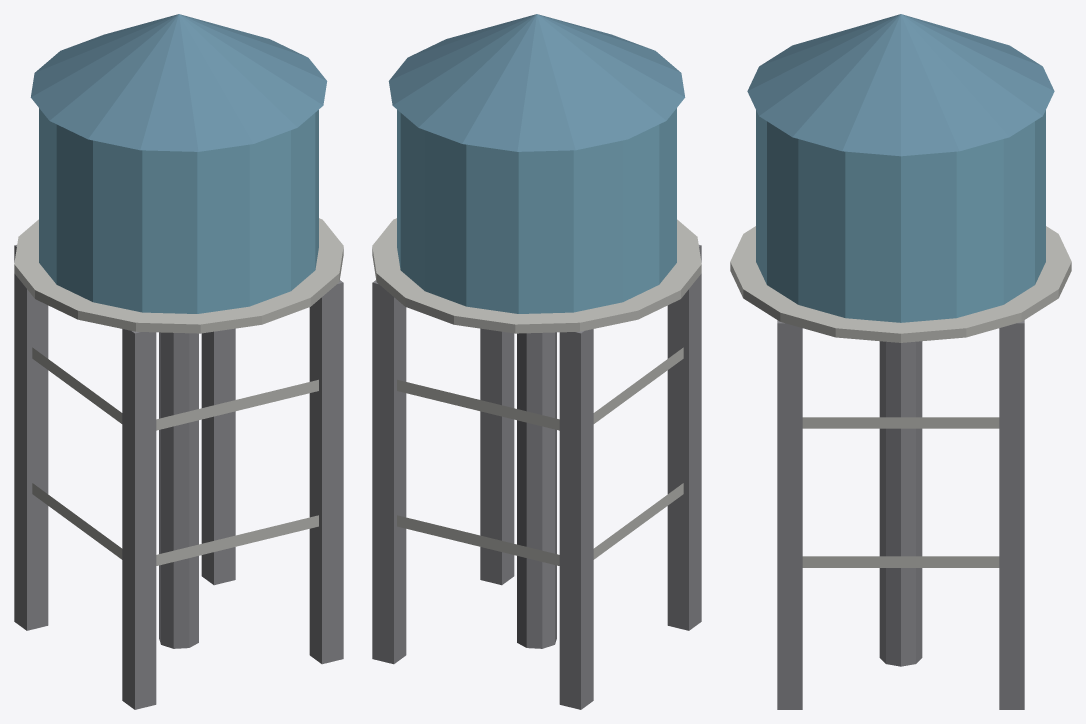
File: small_water_tower.glb
3 renders of one model, left to right at view 1: azimuth 30°, elevation 25°; view 2: azimuth 150°, elevation 25°; view 3: azimuth 270°, elevation 25°, orthographic. The views are drawn at different scales.
Visible parts, largest first — view 1: small_water_tower; view 2: small_water_tower; view 3: small_water_tower.
Boxes of the visible parts, left/top/right/bottom form: small_water_tower: left=14, top=14, right=343, bottom=709; small_water_tower: left=372, top=14, right=701, bottom=709; small_water_tower: left=730, top=14, right=1071, bottom=709.
Size of the model in its own units: 0.4 by 0.832 by 0.4.
